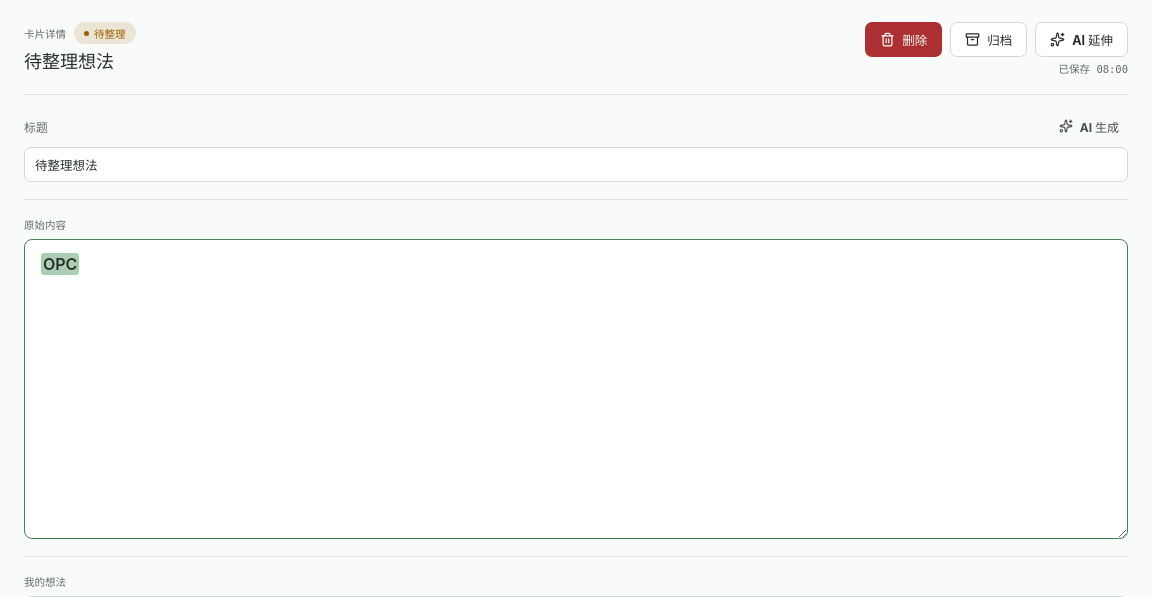
CardDetail › overwrites a saved concept explanation without replacing its existing mark
The image size is (1152, 597).
Right-click the field named "原始内容" at point(60, 264), box [41,253,79,275]
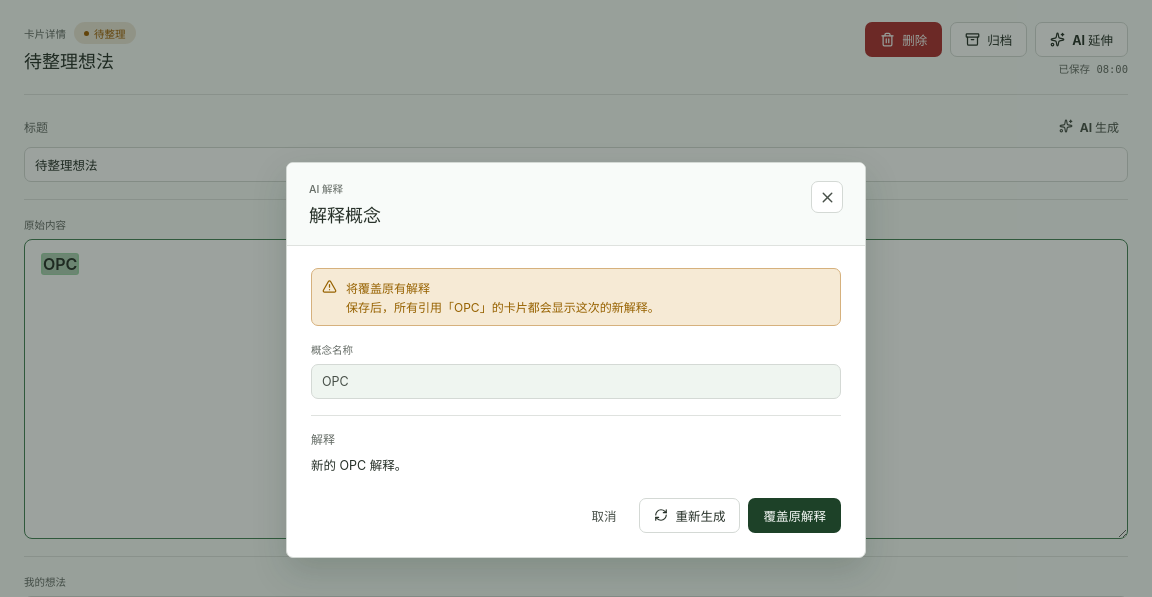
Expected: the element showing "将覆盖原有解释 保存后，所有引用「OPC」的卡片都会显示这次的新解释。" is shown, [311,268,841,326]
Click the button "覆盖原解释" at point(795, 515), box [748,498,841,533]
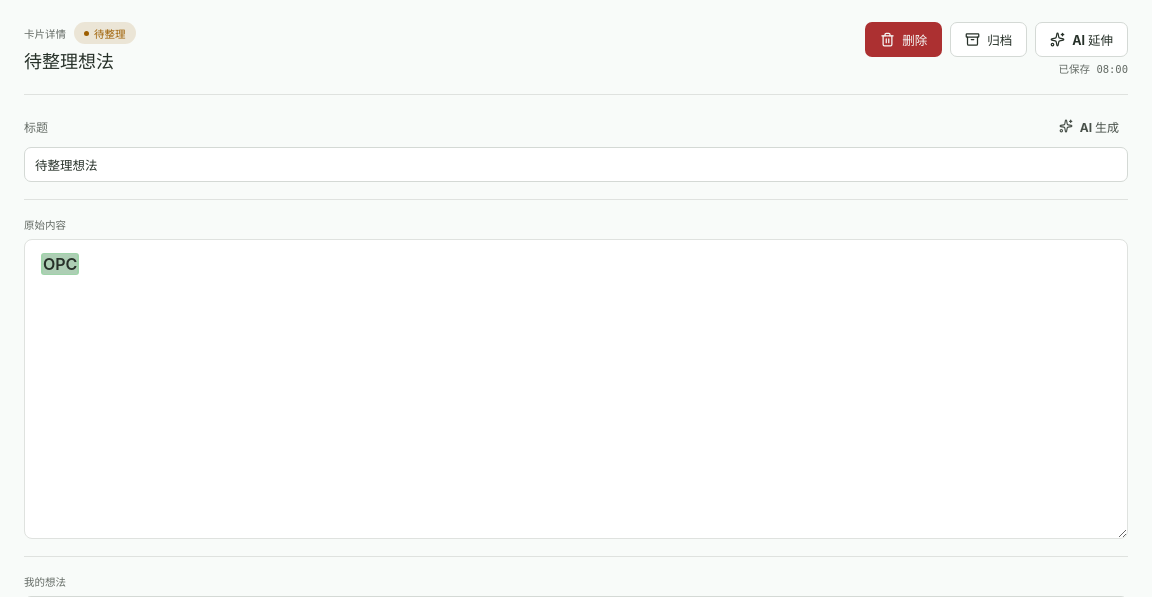
Expected: the heading "解释概念" is gone
